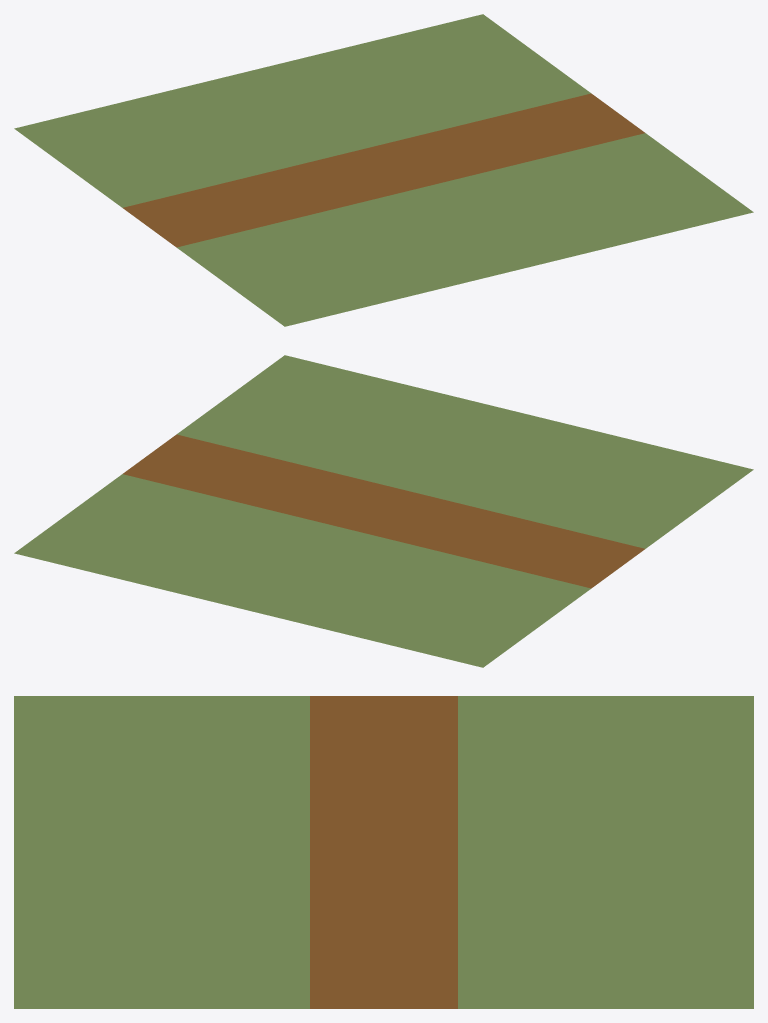
File: SA_Env_Dirt_MidlePath.fbx
3 renders of one model, top to bottom at view 1: azimuth 30°, elevation 25°; view 2: azimuth 150°, elevation 25°; view 3: azimuth 270°, elevation 25°, orthographic. The views are drawn at different scales.
Parts seen in each view (by area): view 1: SA_Env_Dirt_MidlePath; view 2: SA_Env_Dirt_MidlePath; view 3: SA_Env_Dirt_MidlePath.
Part boxes in pixels (box(x1,y1,x2,y2)): SA_Env_Dirt_MidlePath: box(14, 14, 753, 326); SA_Env_Dirt_MidlePath: box(14, 355, 753, 667); SA_Env_Dirt_MidlePath: box(14, 696, 753, 1008).
Size of the model in its own units: 15 by 0 by 15.
